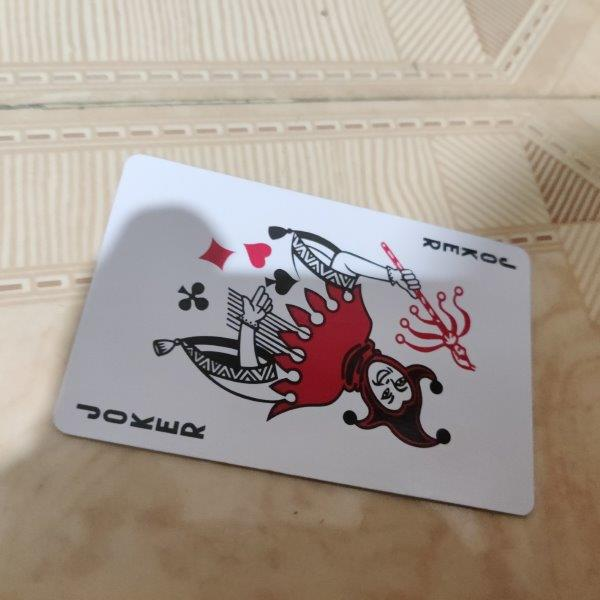Joker: (51, 154, 537, 519)
